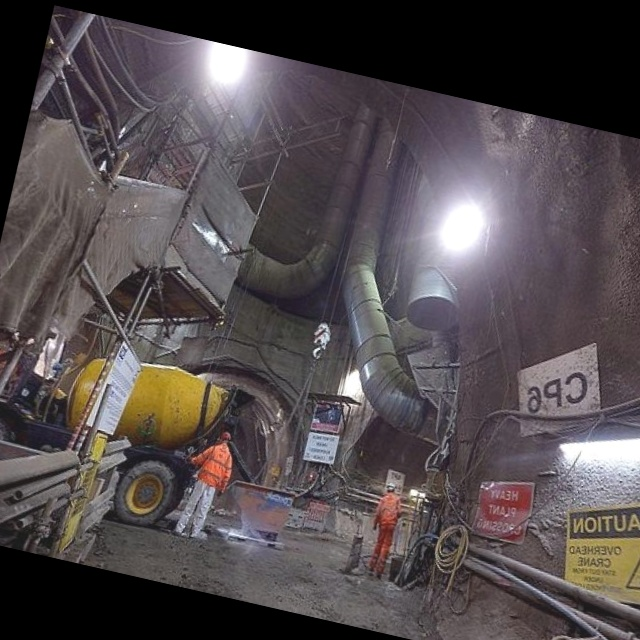Con_Chaleco: (195, 441, 234, 491)
